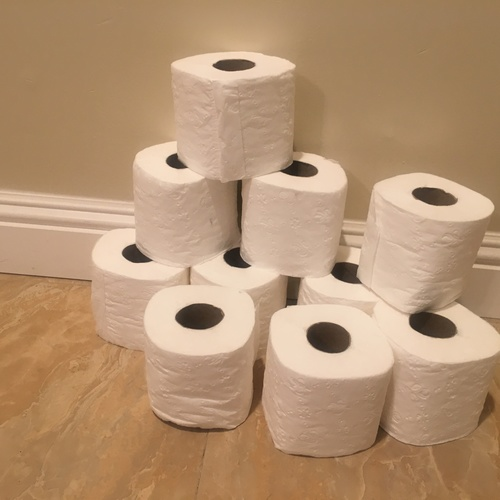roll: (260, 302, 395, 459), (355, 171, 495, 315), (370, 296, 500, 446), (169, 50, 299, 183), (144, 283, 257, 432), (238, 150, 347, 279), (132, 139, 238, 266), (187, 233, 289, 360), (91, 227, 189, 352), (297, 242, 381, 320)
